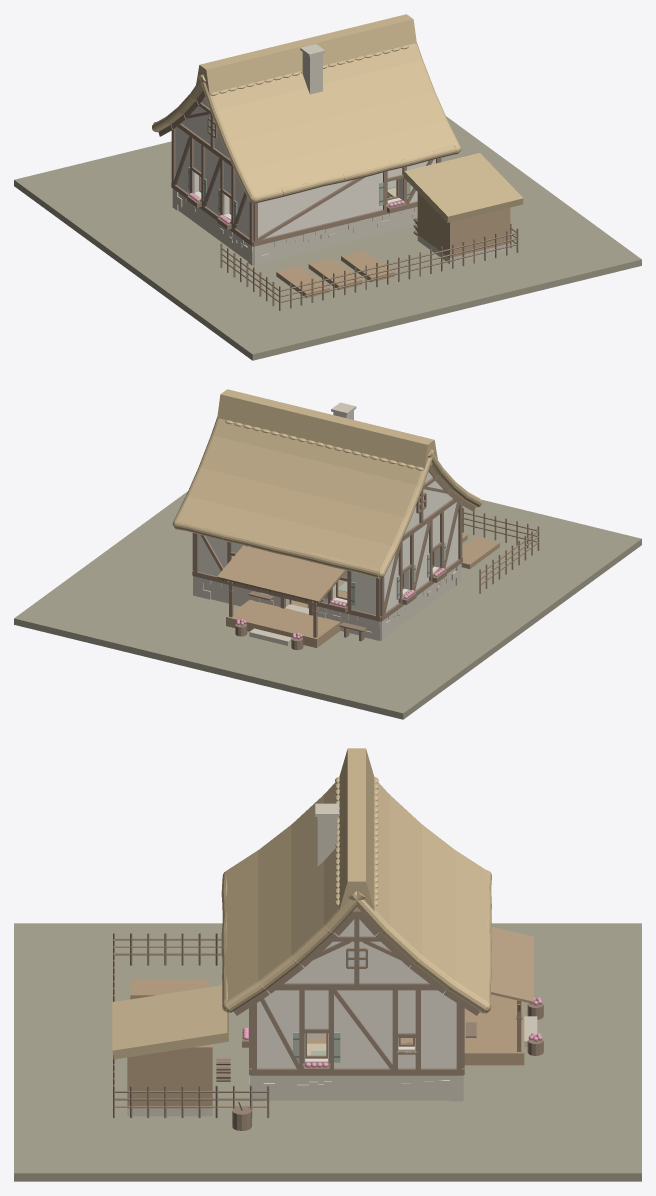
File: dom.glb
3 views of the same model, one above another, from view 1: azimuth 30°, elevation 25°; view 2: azimuth 150°, elevation 25°; view 3: azimuth 270°, elevation 25° (orthographic). The views are drawn at different scales.
Parts seen in each view (by area): view 1: zemlya__m00, krysha__m03, obolochka__m01, obolochka__m02, obolochka__m00, melochi__m02, obolochka__m09, melochi__m09, krysha__m00; view 2: zemlya__m00, krysha__m03, obolochka__m09, obolochka__m02, obolochka__m01, obolochka__m00, melochi__m02, melochi__m09; view 3: zemlya__m00, krysha__m03, obolochka__m01, obolochka__m09, obolochka__m02, obolochka__m00, melochi__m02, krysha__m02, krysha__m00, melochi__m09.
Part boxes in pixels (bbox=[...]): zemlya__m00: bbox=[14, 116, 641, 360]; krysha__m03: bbox=[152, 14, 523, 222]; obolochka__m01: bbox=[175, 97, 435, 238]; obolochka__m02: bbox=[171, 102, 441, 246]; obolochka__m00: bbox=[172, 189, 510, 265]; melochi__m02: bbox=[220, 218, 518, 310]; obolochka__m09: bbox=[417, 192, 510, 257]; melochi__m09: bbox=[276, 250, 394, 297]; krysha__m00: bbox=[300, 44, 325, 94]; zemlya__m00: bbox=[14, 491, 641, 719]; krysha__m03: bbox=[172, 389, 482, 578]; obolochka__m09: bbox=[217, 545, 345, 647]; obolochka__m02: bbox=[192, 477, 462, 637]; obolochka__m01: bbox=[198, 472, 458, 614]; obolochka__m00: bbox=[193, 563, 461, 645]; melochi__m02: bbox=[235, 507, 539, 650]; melochi__m09: bbox=[461, 533, 499, 568]; zemlya__m00: bbox=[14, 923, 641, 1181]; krysha__m03: bbox=[112, 748, 491, 1059]; obolochka__m01: bbox=[257, 919, 456, 1068]; obolochka__m09: bbox=[127, 927, 533, 1108]; obolochka__m02: bbox=[242, 916, 522, 1075]; obolochka__m00: bbox=[127, 1016, 537, 1116]; melochi__m02: bbox=[113, 933, 543, 1130]; krysha__m02: bbox=[233, 911, 479, 1015]; krysha__m00: bbox=[315, 803, 339, 866]; melochi__m09: bbox=[130, 980, 209, 999].
Size of the model in its own units: 18.03 by 8 by 19.14.
